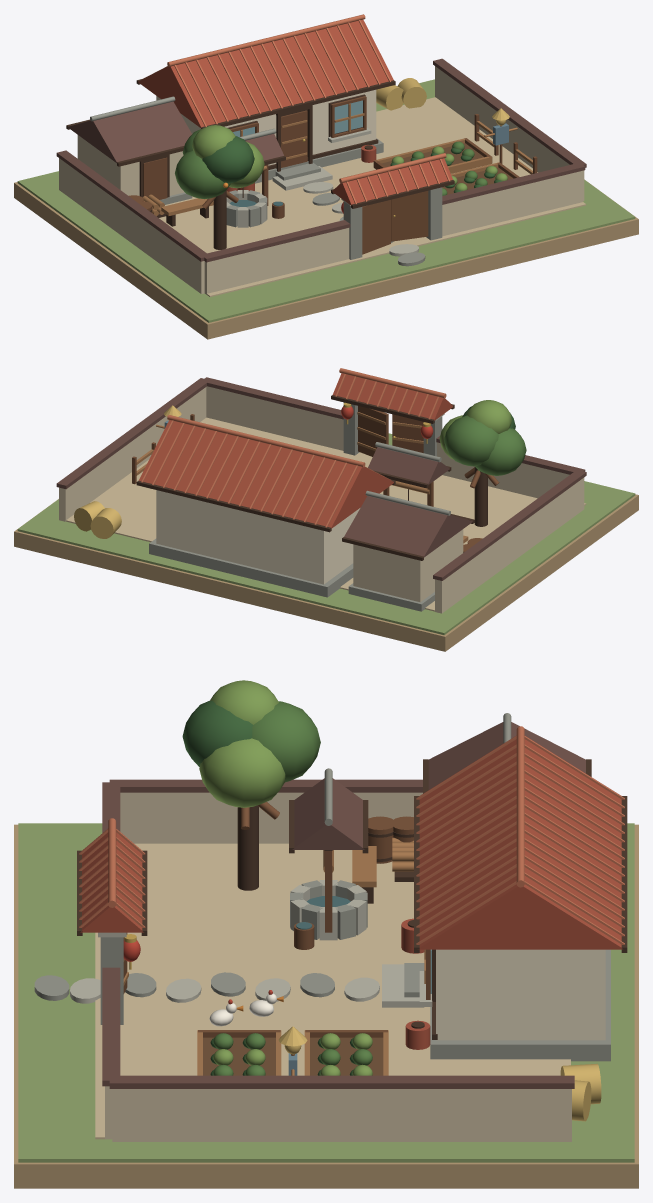
Rendered from farmhouse-courtyard.glb.
The picture shows the model from 3 angles, top to bottom: view 1: azimuth 30°, elevation 25°; view 2: azimuth 150°, elevation 25°; view 3: azimuth 270°, elevation 25°; orthographic projection. The views are drawn at different scales.
Parts seen in each view (by area): view 1: Grass border, Main house roof, Courtyard surface, Earth display base, Front courtyard wall (×2), Side courtyard wall (×2), Fruit tree canopy (×4), Side shed roof, Side wall coping (×2), Gate leaf (×2), Front wall coping (×2), Entrance gate roof (+18 smaller); view 2: Main house roof, Grass border, Earth display base, Main house walls, Side courtyard wall (×2), Courtyard surface, Front courtyard wall (×2), Side shed roof, Fruit tree canopy (×3), Side shed, Side wall coping (×2), Main house foundation (+14 smaller); view 3: Courtyard surface, Grass border, Side courtyard wall (×2), Main house roof, Earth display base, Main house walls, Fruit tree canopy (×4), Side wall coping (×2), Main house foundation, Well canopy roof, Entrance gate roof, Stepping stone (×5) (+12 smaller).
Boxes of the visible parts, x1,y1,x2,y2 form: Grass border: (17,79,635,322); Main house roof: (138,19,393,128); Courtyard surface: (159,97,586,296); Earth display base: (14,179,638,339); Front courtyard wall (×2): (204,170,583,294); Side courtyard wall (×2): (59,66,584,294); Fruit tree canopy (×4): (175,125,264,199); Side shed roof: (67,101,191,163); Side wall coping (×2): (56,58,586,261); Gate leaf (×2): (362,191,428,254); Front wall coping (×2): (204,164,585,262); Entrance gate roof: (332,158,452,205); Main house roof: (139,420,393,528); Grass border: (17,433,635,634); Earth display base: (14,494,638,651); Main house walls: (156,490,360,584); Side courtyard wall (×2): (59,387,584,613); Courtyard surface: (66,417,586,611); Front courtyard wall (×2): (206,386,569,498); Side shed roof: (344,496,472,557); Fruit tree canopy (×3): (444,400,526,475); Side shed: (353,529,463,602); Side wall coping (×2): (56,378,586,580); Main house foundation: (149,538,353,597); Courtyard surface: (95,843,570,1139); Grass border: (18,823,634,1162); Side courtyard wall (×2): (112,792,571,1141); Main house roof: (418,735,622,949); Earth display base: (14,824,638,1188); Main house walls: (436,949,605,1040); Fruit tree canopy (×4): (182,680,320,807); Side wall coping (×2): (109,779,574,1088); Main house foundation: (430,949,610,1061); Well canopy roof: (292,778,364,849); Entrance gate roof: (80,829,143,932); Stepping stone (×5): (34,972,379,1002).
Bounding box in the file's own units: 18 × 5.61 × 14.
